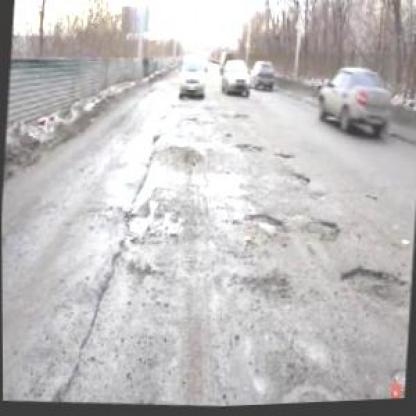pothole: (338, 265, 412, 308), (245, 209, 286, 240), (252, 272, 288, 305), (312, 216, 341, 250), (233, 140, 263, 161), (291, 169, 309, 190), (272, 151, 294, 162)
